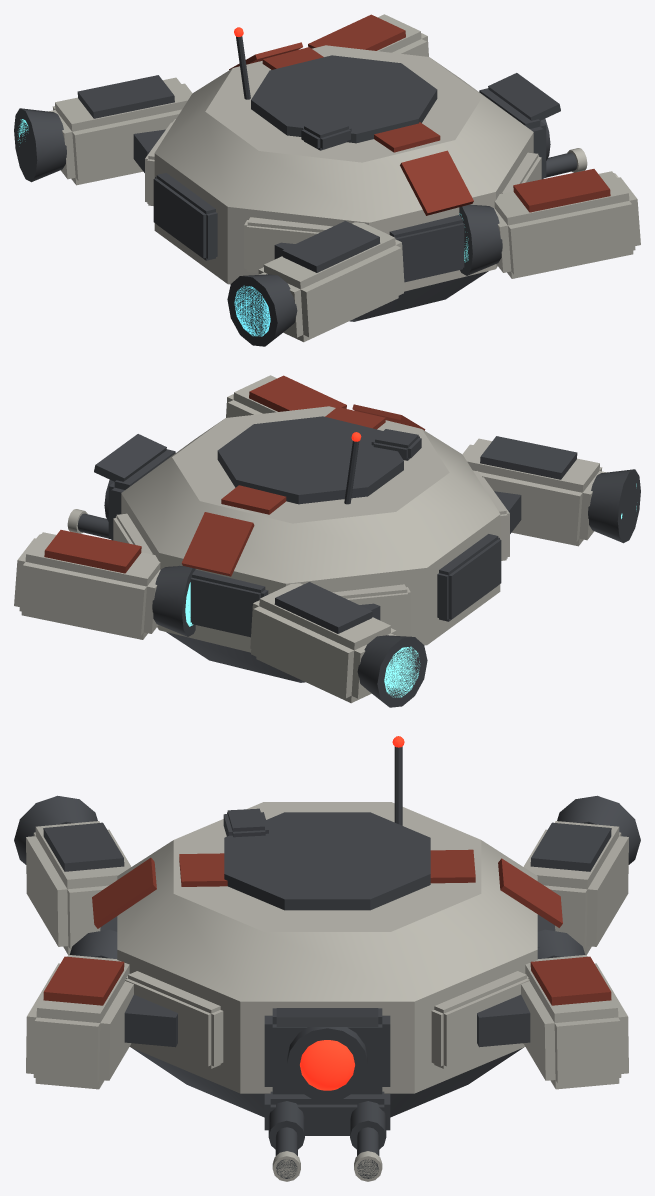
File: drone.glb
3 views of the same model, one above another, from view 1: azimuth 30°, elevation 25°; view 2: azimuth 150°, elevation 25°; view 3: azimuth 270°, elevation 25° (orthographic). The views are drawn at different scales.
Visible parts, largest first — view 1: drone_hull, drone_gunmetal, drone_union_red, drone_glow; view 2: drone_hull, drone_gunmetal, drone_union_red, drone_glow; view 3: drone_hull, drone_gunmetal, drone_union_red, drone_eye.
Boxes of the visible parts, left/top/right/bottom form: drone_hull: left=48, top=14, right=640, bottom=342; drone_gunmetal: left=14, top=36, right=577, bottom=346; drone_union_red: left=229, top=14, right=610, bottom=215; drone_glow: left=18, top=119, right=468, bottom=336; drone_hull: left=14, top=375, right=606, bottom=703; drone_gunmetal: left=77, top=416, right=640, bottom=707; drone_union_red: left=44, top=375, right=425, bottom=576; drone_glow: left=185, top=483, right=636, bottom=697; drone_hull: left=26, top=802, right=628, bottom=1181; drone_gunmetal: left=14, top=746, right=640, bottom=1178; drone_union_red: left=43, top=849, right=611, bottom=1005; drone_eye: left=300, top=736, right=404, bottom=1090.
Bounding box in the file's own units: 3.15 × 1.67 × 3.09.
